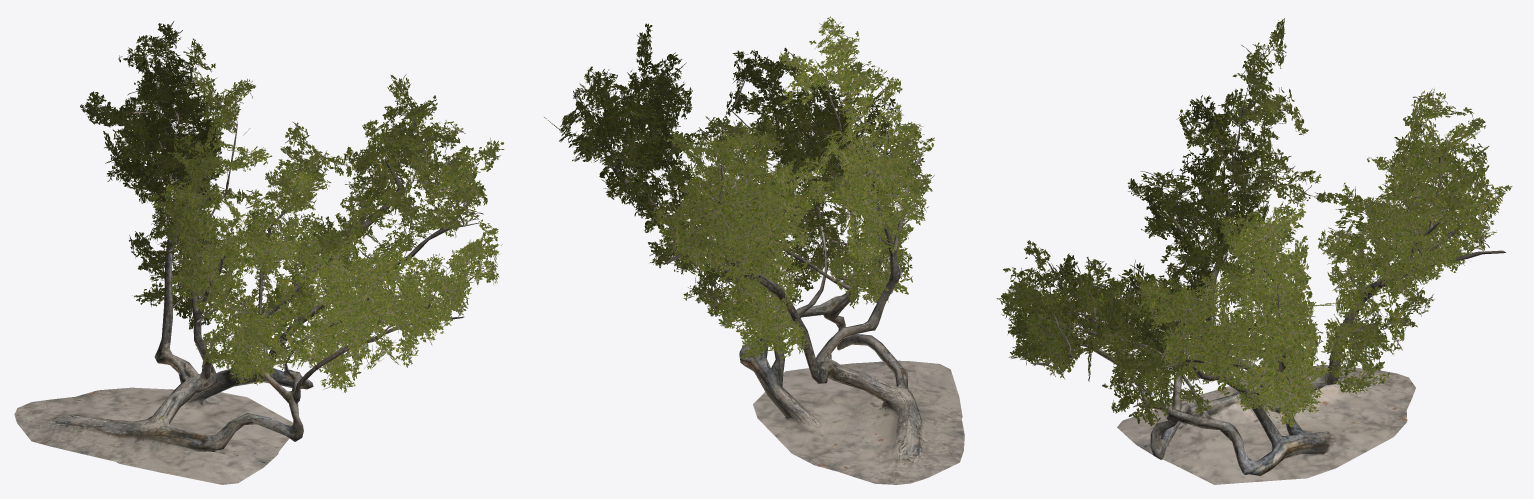
3 views of the same model, side by side, from view 1: azimuth 30°, elevation 25°; view 2: azimuth 150°, elevation 25°; view 3: azimuth 270°, elevation 25° (orthographic). The views are drawn at different scales.
Parts seen in each view (by area): view 1: island_tree_03_lod1; view 2: island_tree_03_lod1; view 3: island_tree_03_lod1.
Boxes of the visible parts, x1,y1,x2,y2 form: island_tree_03_lod1: (14, 21, 504, 484); island_tree_03_lod1: (544, 16, 964, 484); island_tree_03_lod1: (996, 18, 1512, 484).
Size of the model in its own units: 3.06 by 2.67 by 2.96.
Materials: 3 (3 with a texture image).
